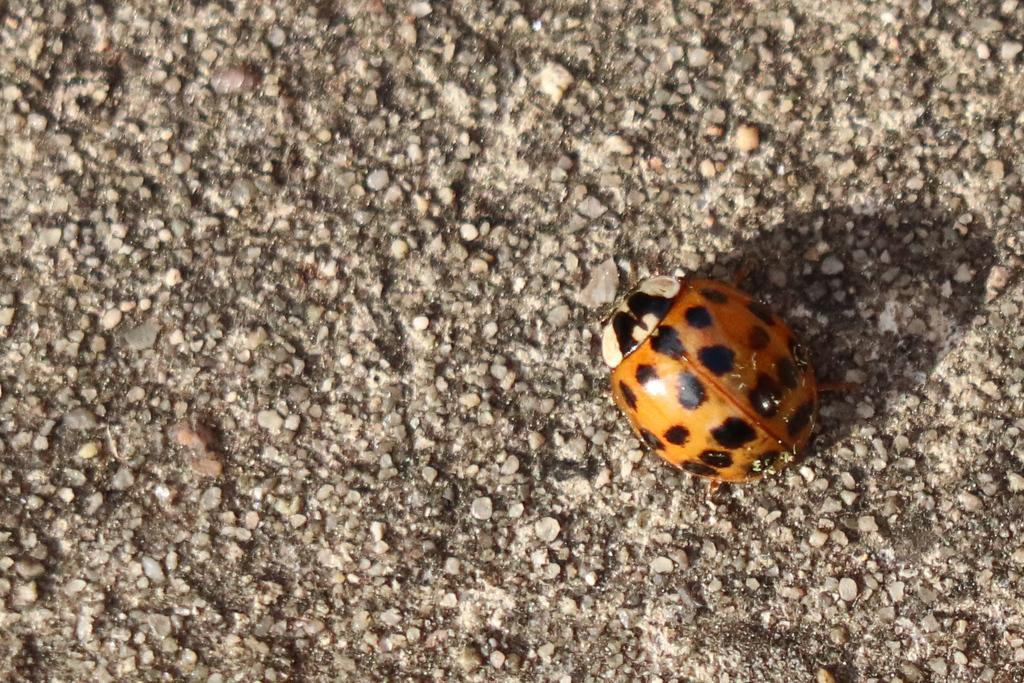ladybug: (597, 267, 825, 487)
